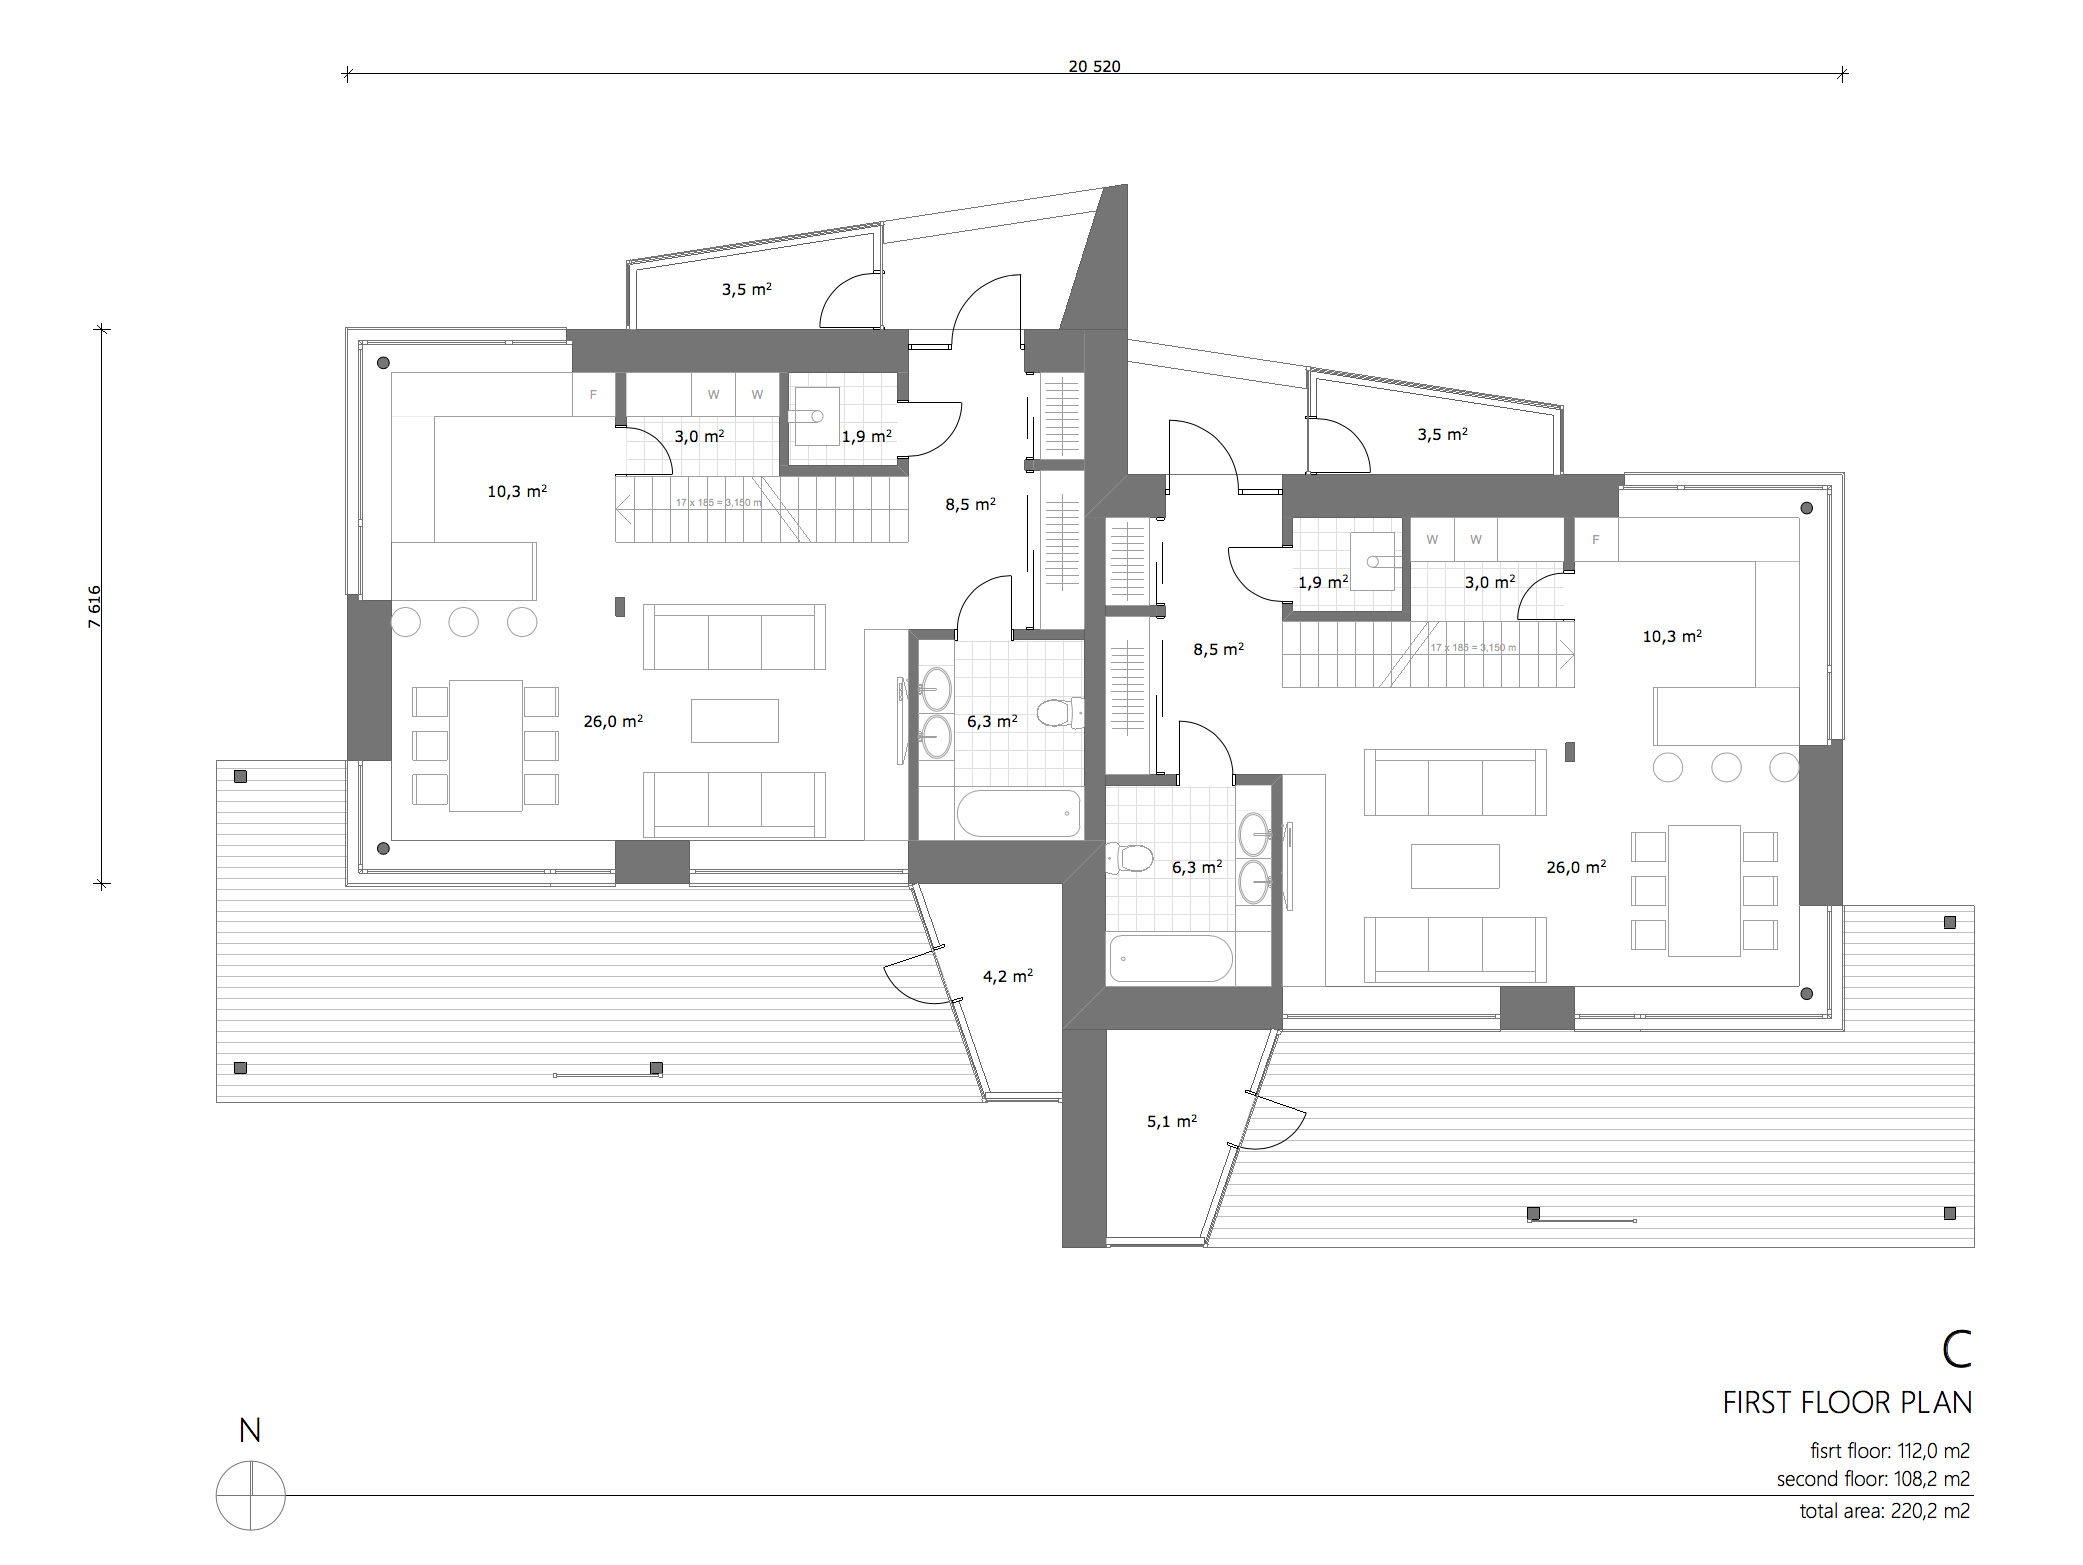door: (876, 939, 944, 1023), (954, 270, 1024, 324), (1166, 418, 1235, 472), (954, 572, 1016, 630), (1254, 1096, 1310, 1157), (1175, 718, 1235, 774), (1319, 418, 1374, 473), (1226, 542, 1277, 603), (912, 396, 963, 457), (819, 275, 871, 329), (1516, 569, 1565, 621), (630, 426, 676, 477)
